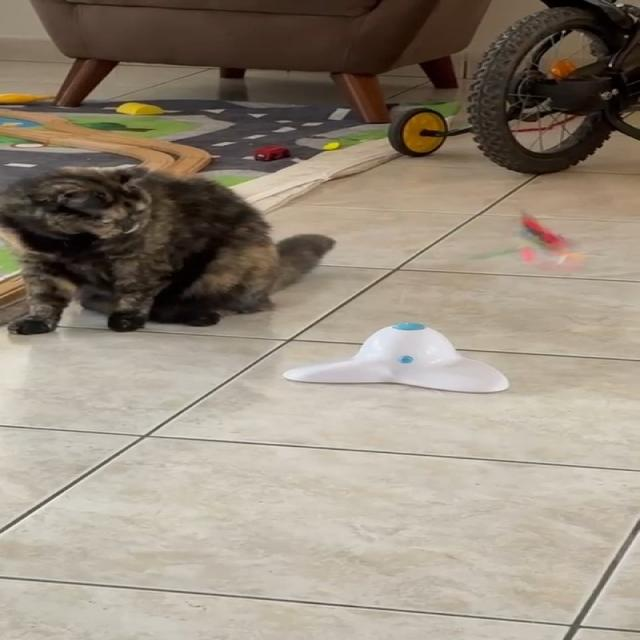authorized: (0, 164, 335, 334)
